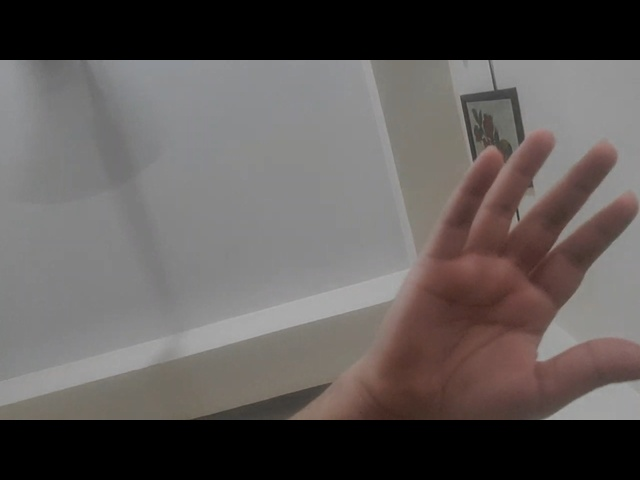Hello: (338, 104, 640, 417)
